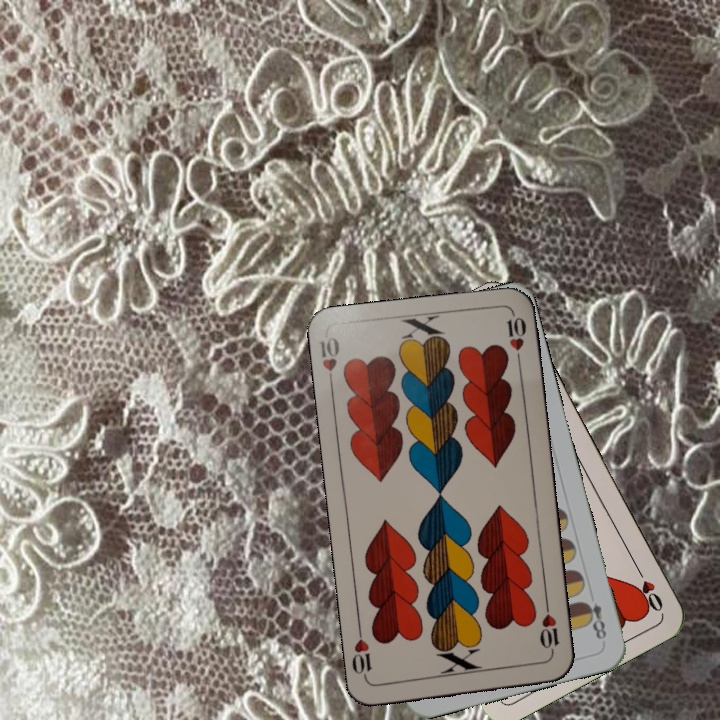E8: (578, 597, 609, 642)
H10: (536, 599, 562, 659), (316, 333, 342, 391)
HO: (630, 560, 666, 615)
